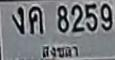2: (71, 4, 83, 31)
5: (84, 3, 96, 31)
8: (57, 5, 68, 32)
9: (100, 3, 112, 30)
A04: (28, 6, 42, 34)
A07: (12, 6, 24, 33)
SKA: (40, 43, 81, 59)
